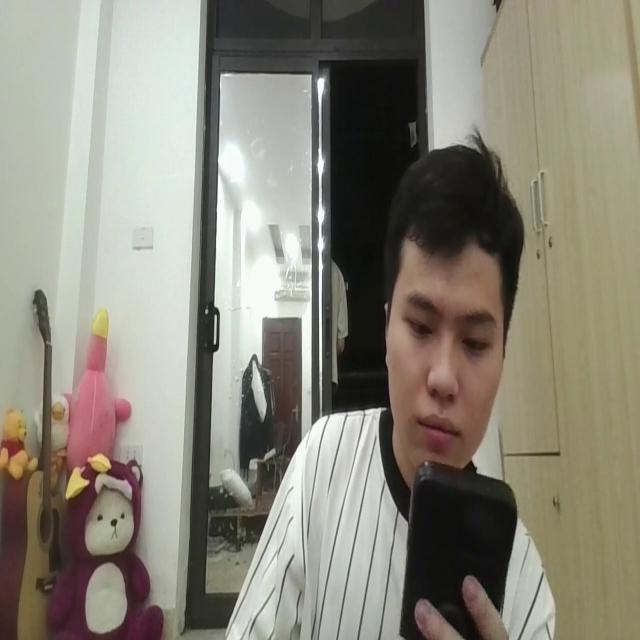phone: (399, 452, 517, 640)
student: (233, 144, 554, 640)
